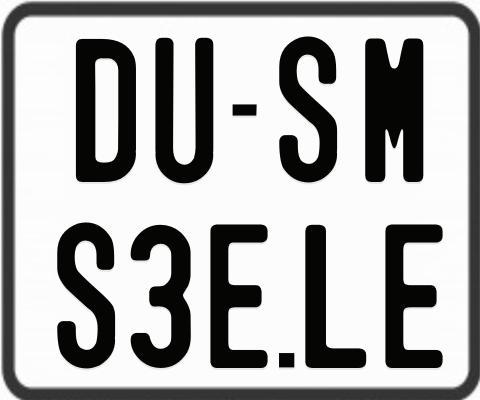3: (130, 225, 190, 371)
D: (75, 36, 141, 179)
E: (208, 221, 272, 369), (384, 222, 447, 370)
L: (304, 224, 368, 370)
M: (364, 38, 424, 186)
S: (54, 222, 114, 371), (277, 36, 335, 186)
U: (155, 37, 214, 183)
